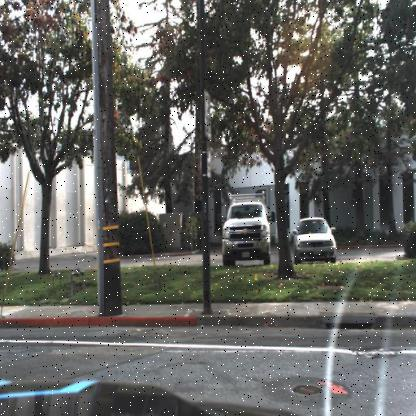car: (222, 199, 270, 267), (293, 215, 337, 265)
